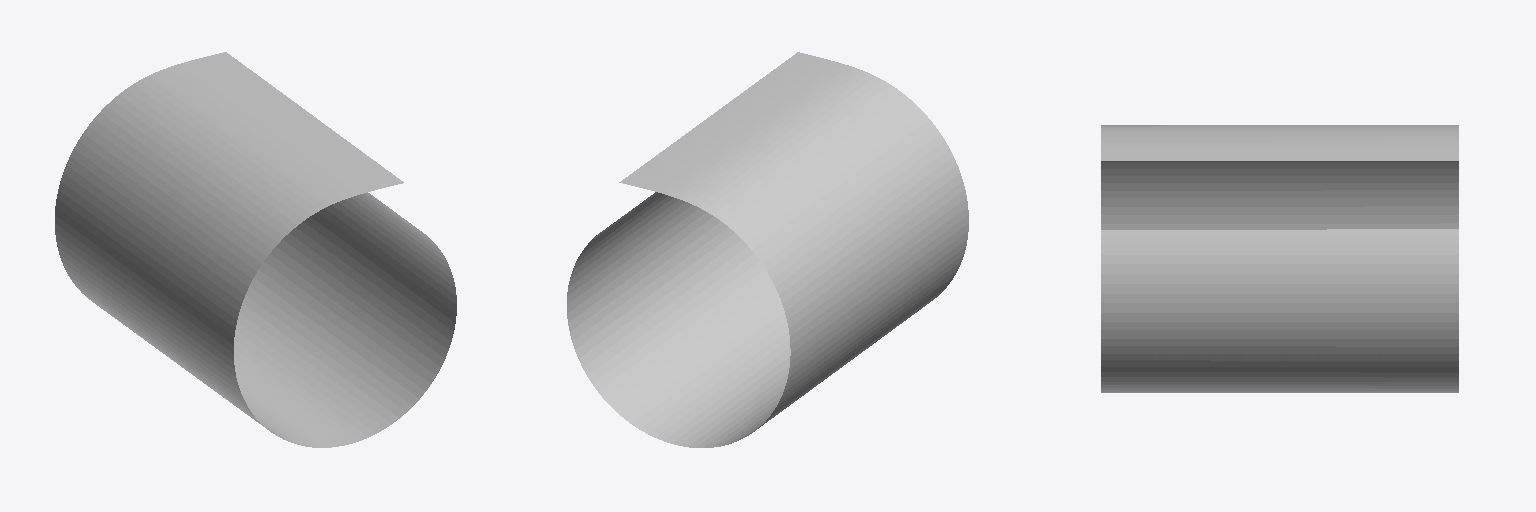
The model's file is CurvePaper_000001.obj.
The picture shows the model from 3 angles: view 1: azimuth 30°, elevation 25°; view 2: azimuth 150°, elevation 25°; view 3: azimuth 270°, elevation 25°; orthographic projection.
Visible parts, largest first — view 1: Plane; view 2: Plane; view 3: Plane.
Part boxes in pixels (left/top/right/bottom): Plane: left=55, top=52, right=456, bottom=447; Plane: left=567, top=52, right=968, bottom=447; Plane: left=1101, top=125, right=1458, bottom=392.
Size of the model in its own units: 1.64 by 1.74 by 2.26.